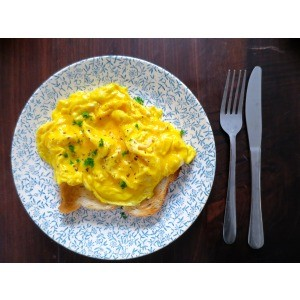egg_brain food: (46, 95, 188, 205)
